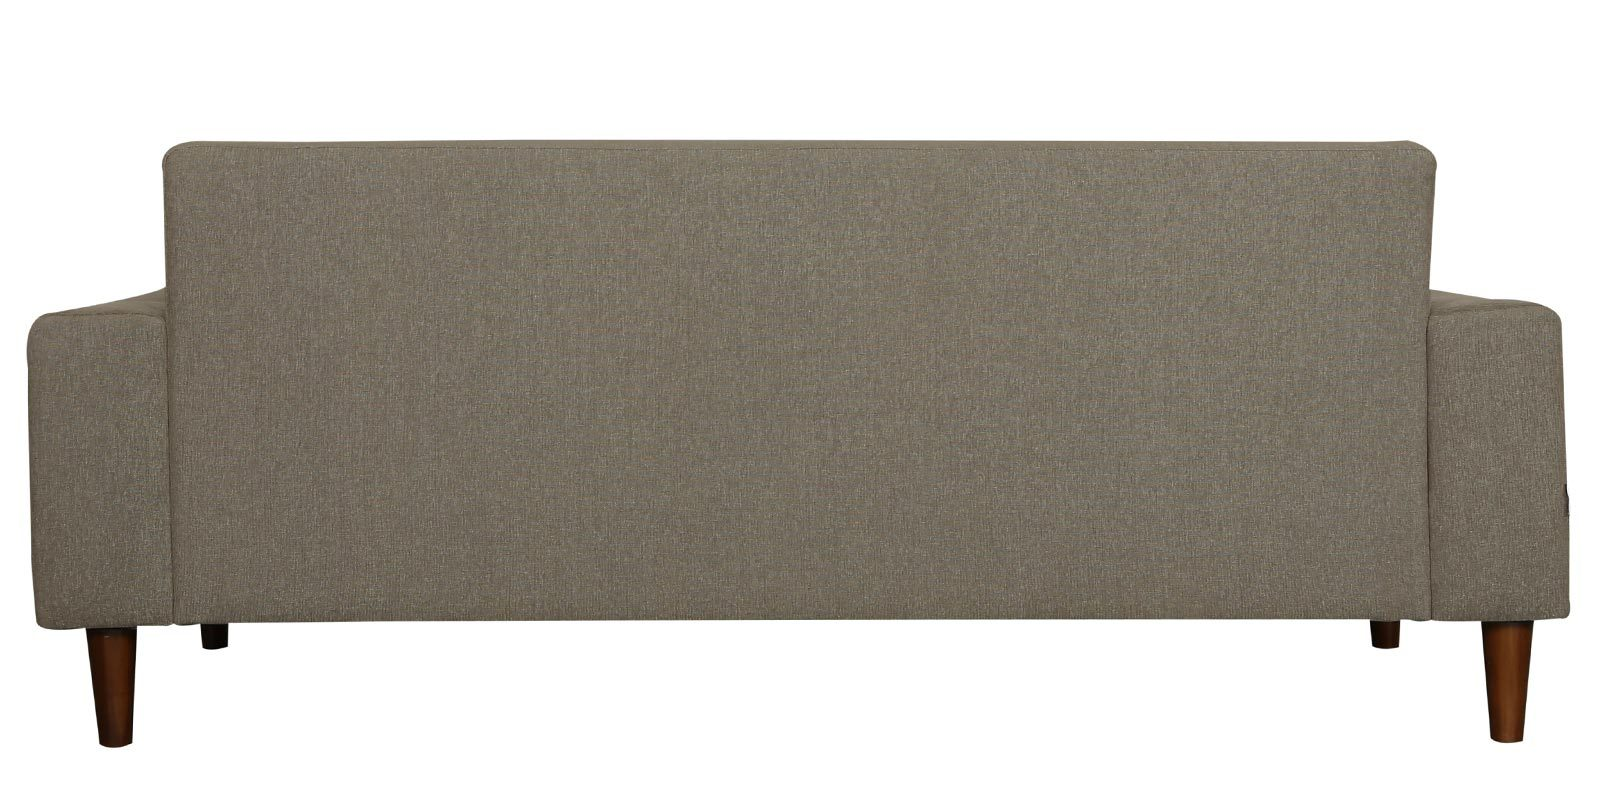Cordoba Three Seater Sofa in Sandy Brown Colour by CasaCraft: (6, 121, 1589, 755)
